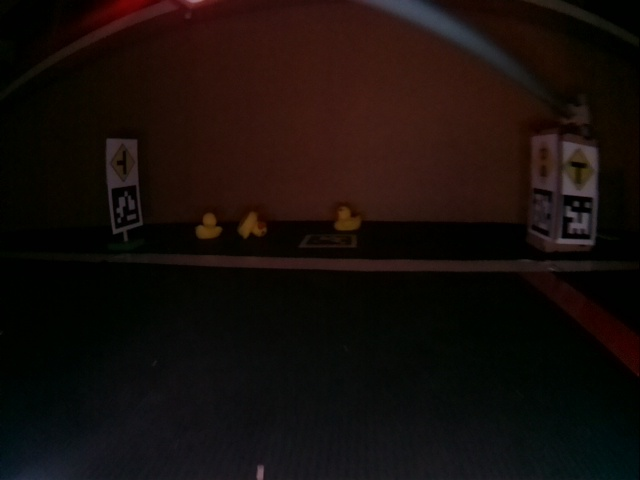Duckie: (240, 212, 267, 238), (335, 206, 362, 230), (196, 213, 221, 237)
Intersection sign: (563, 147, 595, 188), (109, 143, 136, 180)
QR code: (560, 194, 594, 240), (112, 186, 140, 229), (529, 190, 552, 238), (300, 233, 357, 247)
Signal sign: (532, 140, 557, 181)
